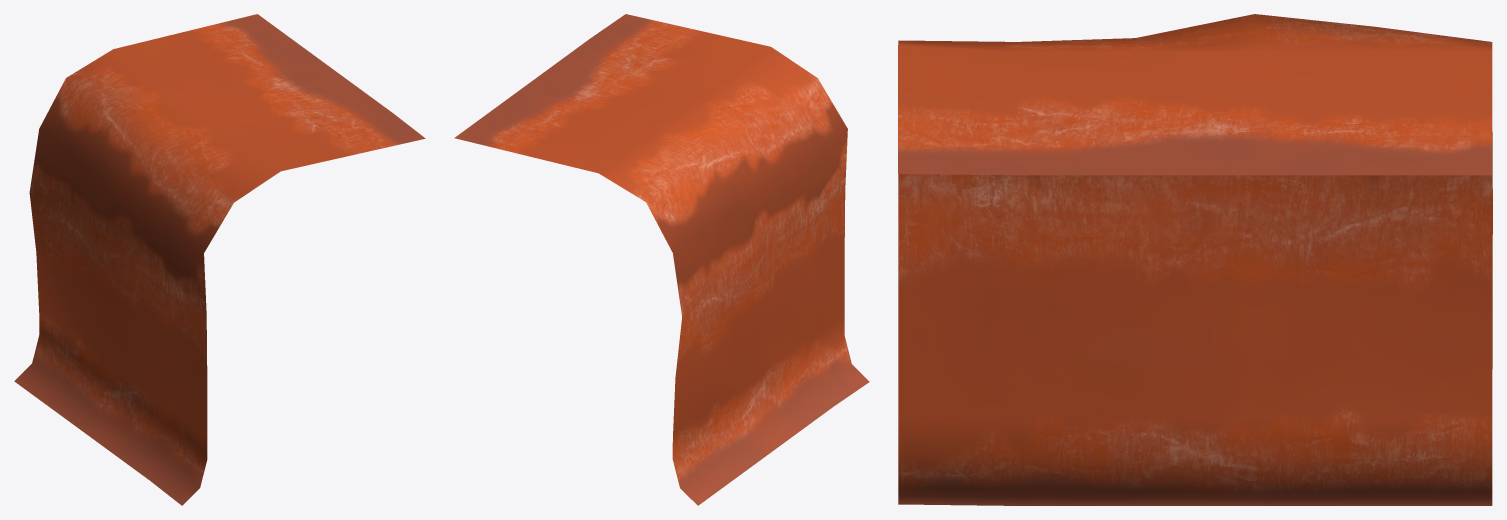
File: Parede1.fbx
The picture shows the model from 3 angles, left to right: view 1: azimuth 30°, elevation 25°; view 2: azimuth 150°, elevation 25°; view 3: azimuth 270°, elevation 25°; orthographic projection. The views are drawn at different scales.
Parts seen in each view (by area): view 1: Parede3; view 2: Parede3; view 3: Parede3.
Boxes of the visible parts, <box> form: Parede3: <box>14,14,425,505</box>; Parede3: <box>454,14,869,505</box>; Parede3: <box>898,14,1492,505</box>.
Size of the model in its own units: 3.65 by 4.41 by 4.38.
